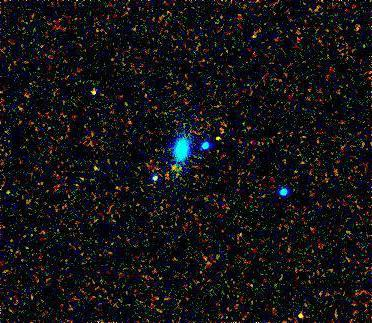star: (204, 123, 234, 153)
